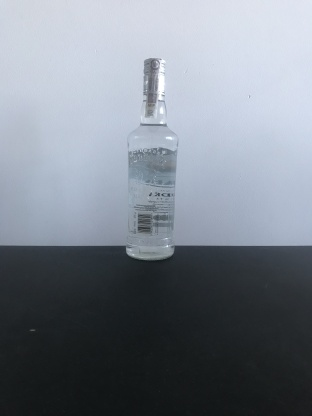nakretka: (140, 53, 168, 99)
